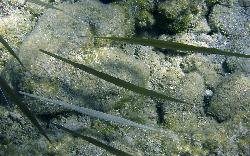Fistularia commersonii: (11, 86, 208, 146)
